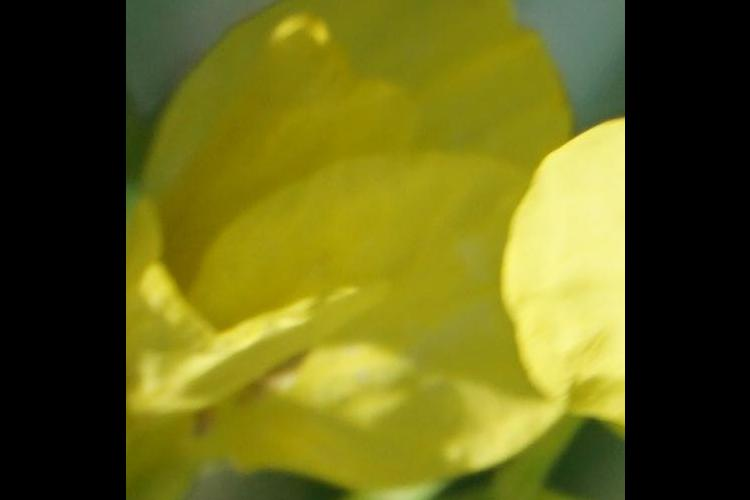yellow: (142, 1, 553, 500), (517, 124, 619, 419)
